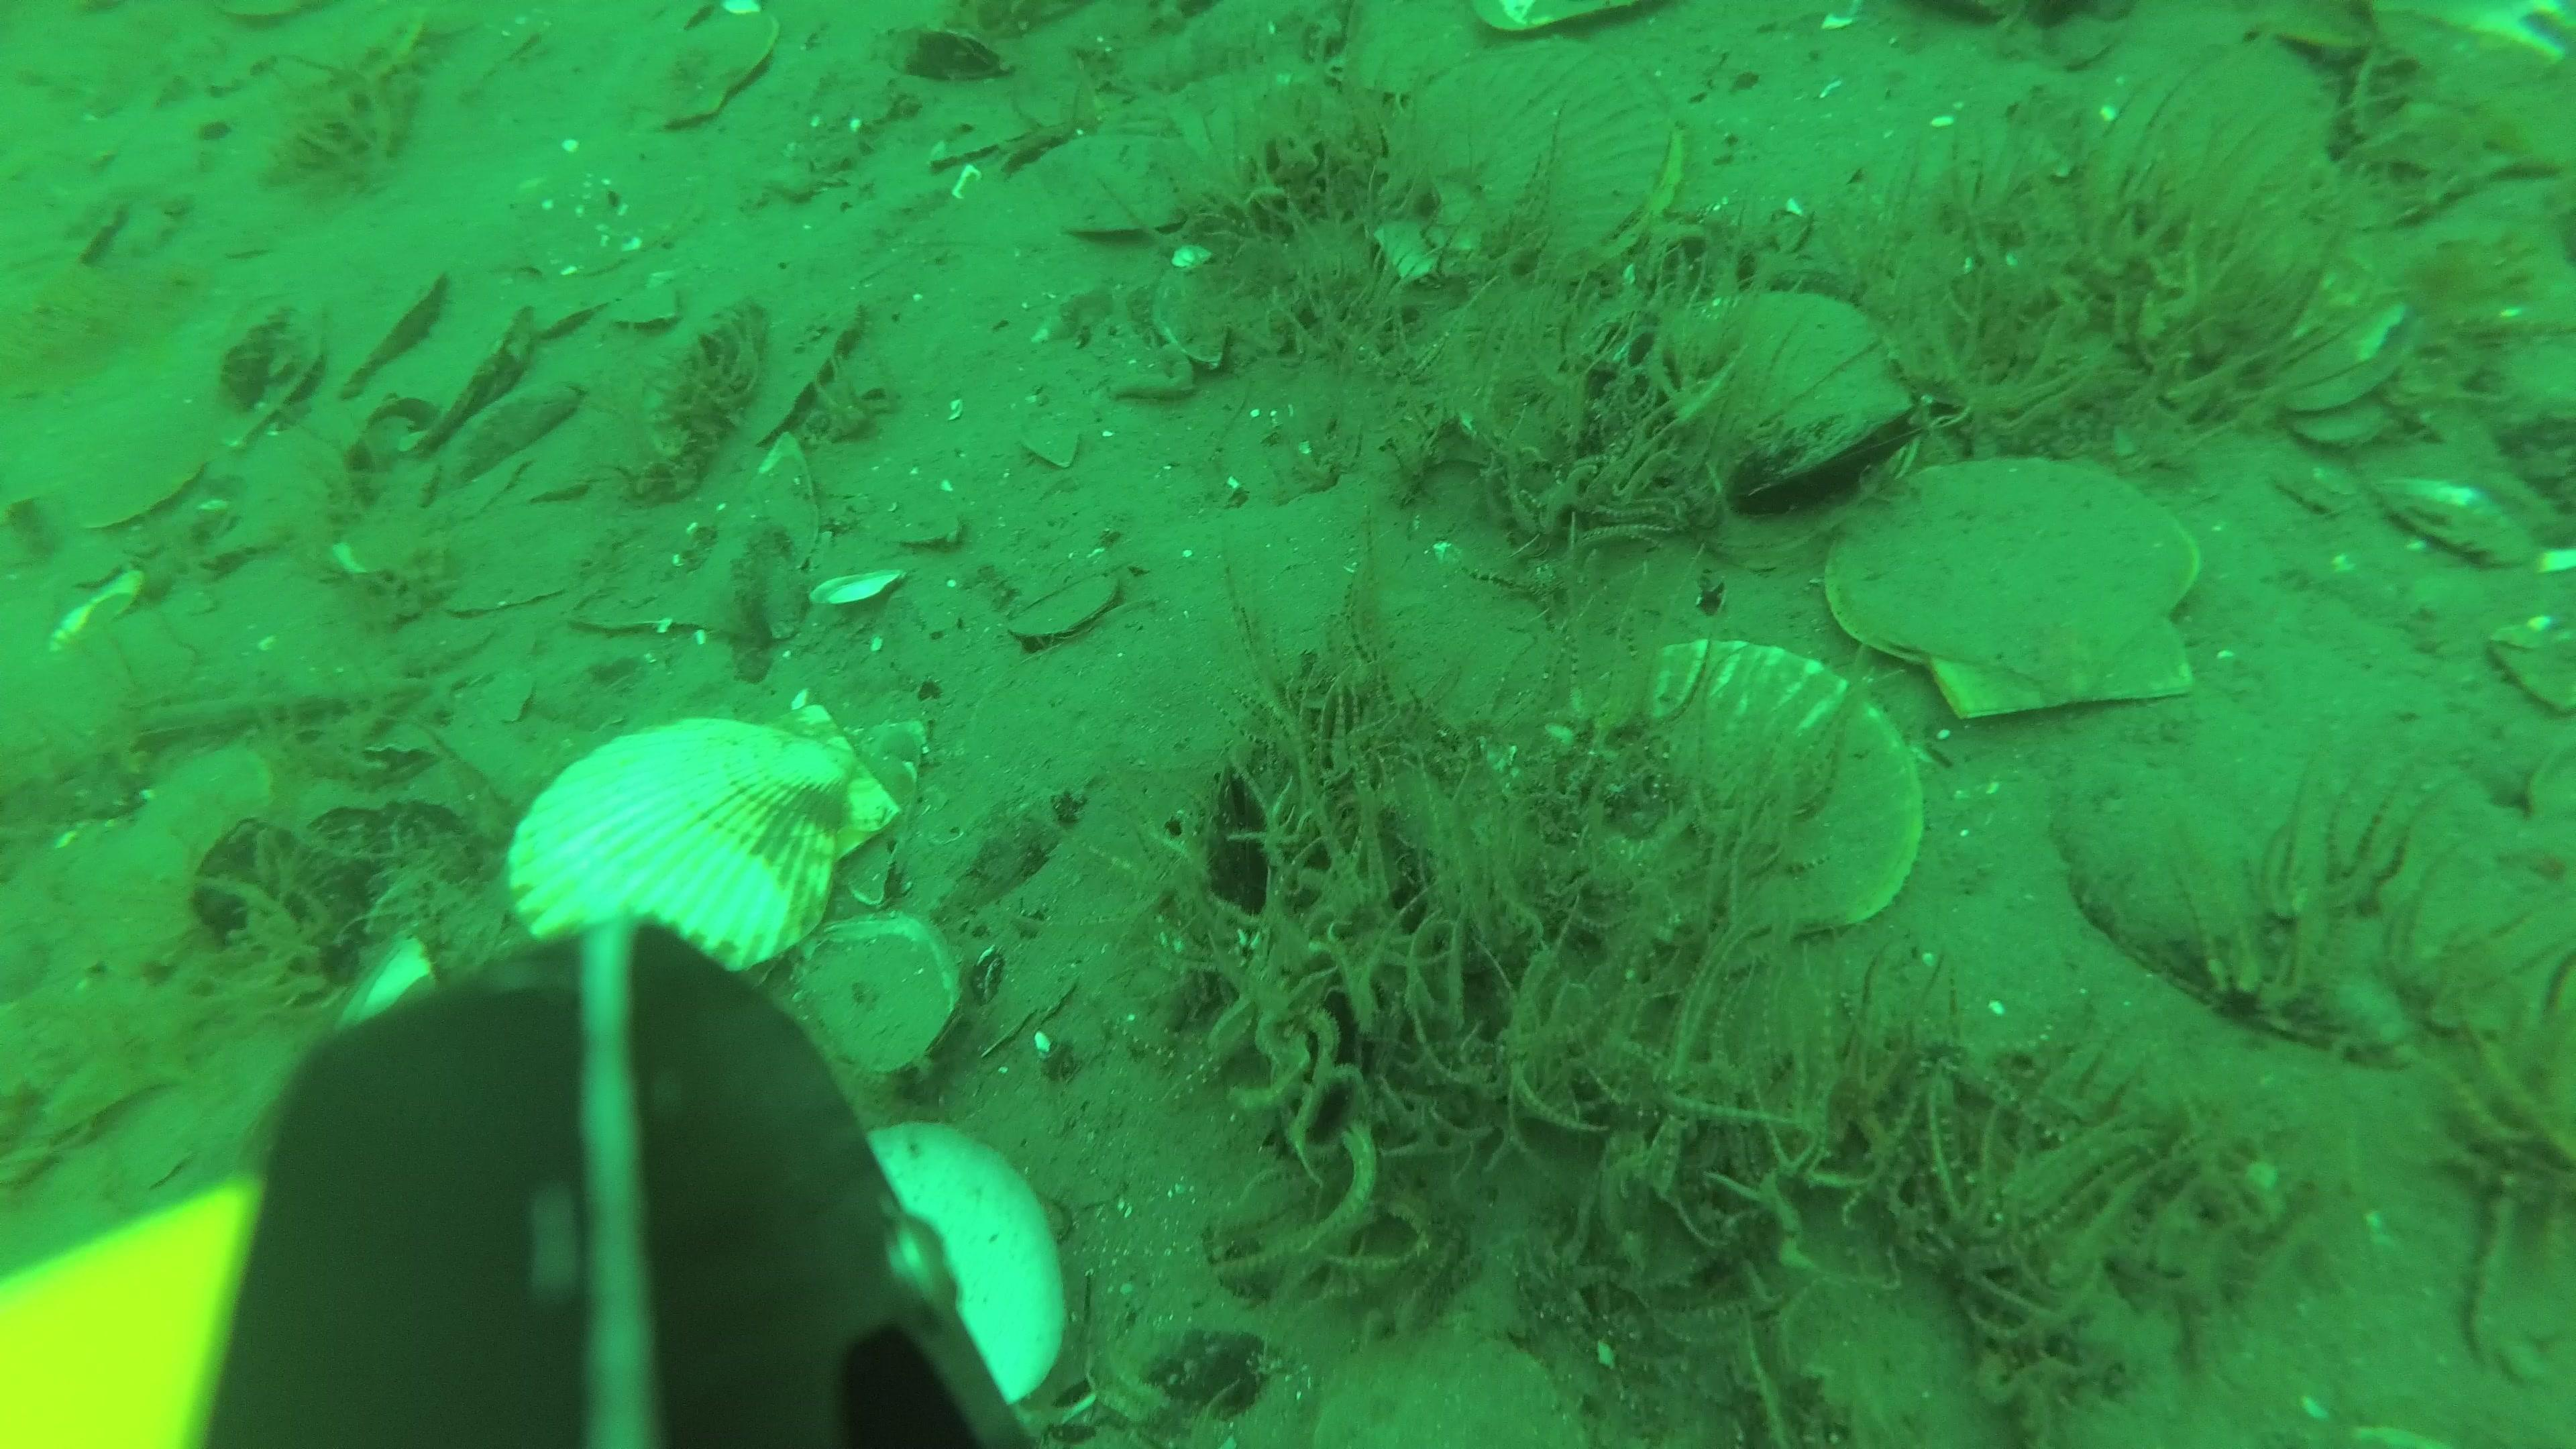scallop: (501, 702, 892, 984), (1557, 644, 1932, 934), (1828, 460, 2215, 718), (1387, 51, 1679, 276), (1651, 294, 1905, 506), (2107, 48, 2342, 244), (1322, 1330, 1585, 1449), (649, 14, 778, 136), (64, 441, 205, 541)
